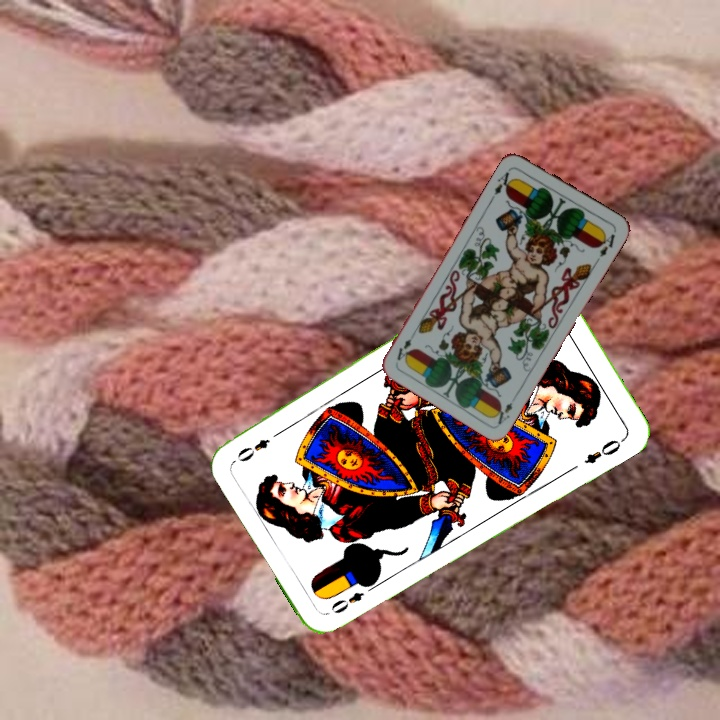EA: (490, 390, 520, 427), (490, 165, 517, 197)
EO: (327, 587, 367, 617)
